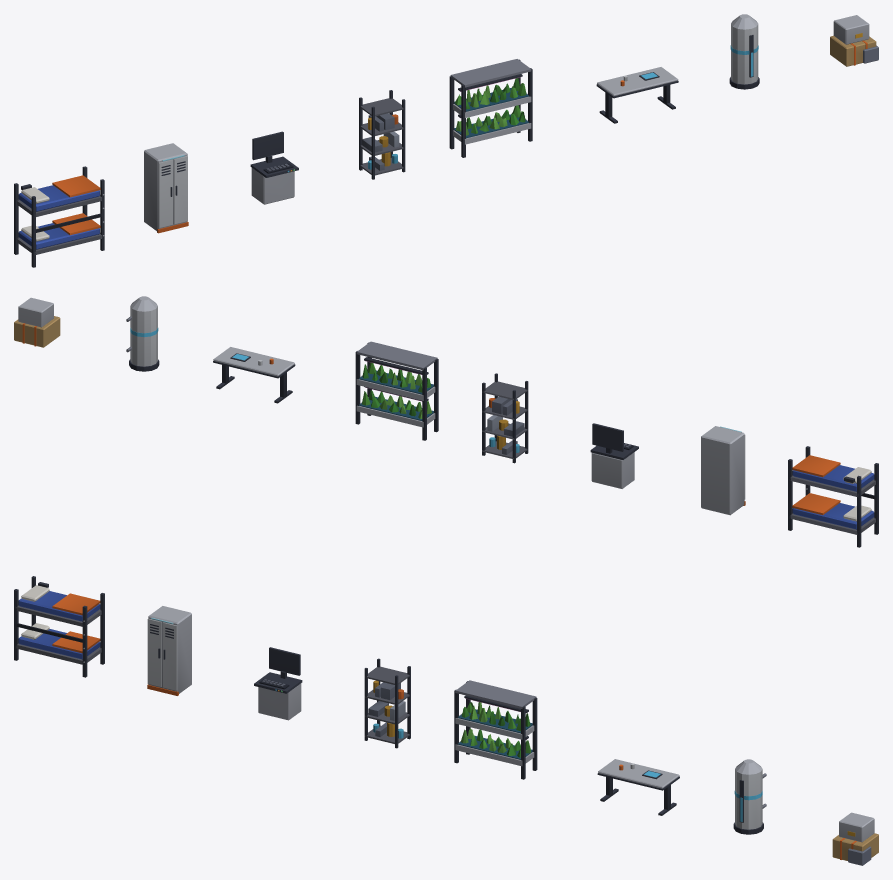
Rendered from furniture.glb.
3 renders of one model, top to bottom at view 1: azimuth 30°, elevation 25°; view 2: azimuth 150°, elevation 25°; view 3: azimuth 330°, elevation 25°, orthographic.
Parts seen in each view (by area): view 1: body_plants, body_bed, body_locker, body_shelf, body_console, body_tank, body_crates, body_table; view 2: body_plants, body_bed, body_locker, body_shelf, body_console, body_tank, body_crates, body_table; view 3: body_plants, body_bed, body_locker, body_shelf, body_console, body_tank, body_crates, body_table.
Boxes of the visible parts, x1=… form: body_plants: x1=449, y1=59, x2=532, y2=157; body_bed: x1=14, y1=166, x2=104, y2=267; body_locker: x1=144, y1=143, x2=188, y2=233; body_shelf: x1=359, y1=90, x2=405, y2=179; body_console: x1=250, y1=131, x2=298, y2=204; body_tank: x1=729, y1=14, x2=759, y2=89; body_crates: x1=830, y1=15, x2=878, y2=66; body_table: x1=596, y1=67, x2=678, y2=123; body_plants: x1=355, y1=341, x2=438, y2=440; body_bed: x1=788, y1=446, x2=878, y2=547; body_locker: x1=701, y1=426, x2=745, y2=515; body_shelf: x1=482, y1=373, x2=528, y2=463; body_console: x1=590, y1=423, x2=638, y2=488; body_tank: x1=126, y1=296, x2=159, y2=371; body_crates: x1=14, y1=297, x2=60, y2=347; body_table: x1=213, y1=347, x2=295, y2=403; body_plants: x1=454, y1=680, x2=537, y2=779; body_bed: x1=14, y1=576, x2=104, y2=677; body_locker: x1=147, y1=606, x2=191, y2=695; body_shelf: x1=364, y1=658, x2=410, y2=748; body_console: x1=254, y1=647, x2=302, y2=720; body_tank: x1=733, y1=759, x2=766, y2=834; body_crates: x1=832, y1=812, x2=878, y2=865; body_table: x1=597, y1=759, x2=679, y2=815.
Bounding box in the file's own units: 23.43 × 1.92 × 0.97.
